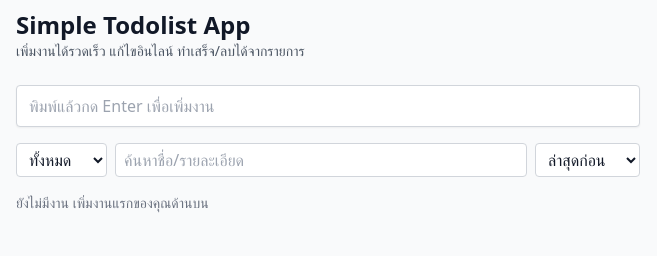
Add → Edit → Complete → Delete basic flow › adds a todo with Enter and shows on top
Type "ทดสอบการเพิ่มงาน" into the field named "เพิ่มงานใหม่" at (328, 106), box [16,85,640,127]
Then press Enter
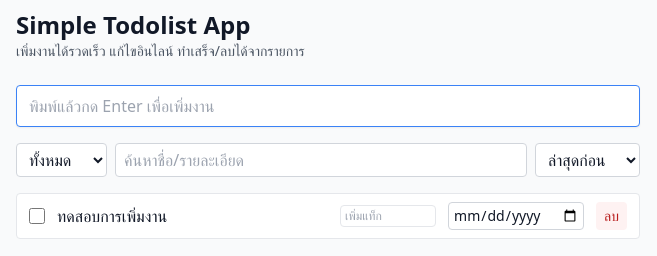
Expected: the button "ทดสอบการเพิ่มงาน" is shown, [57,204,328,228]
